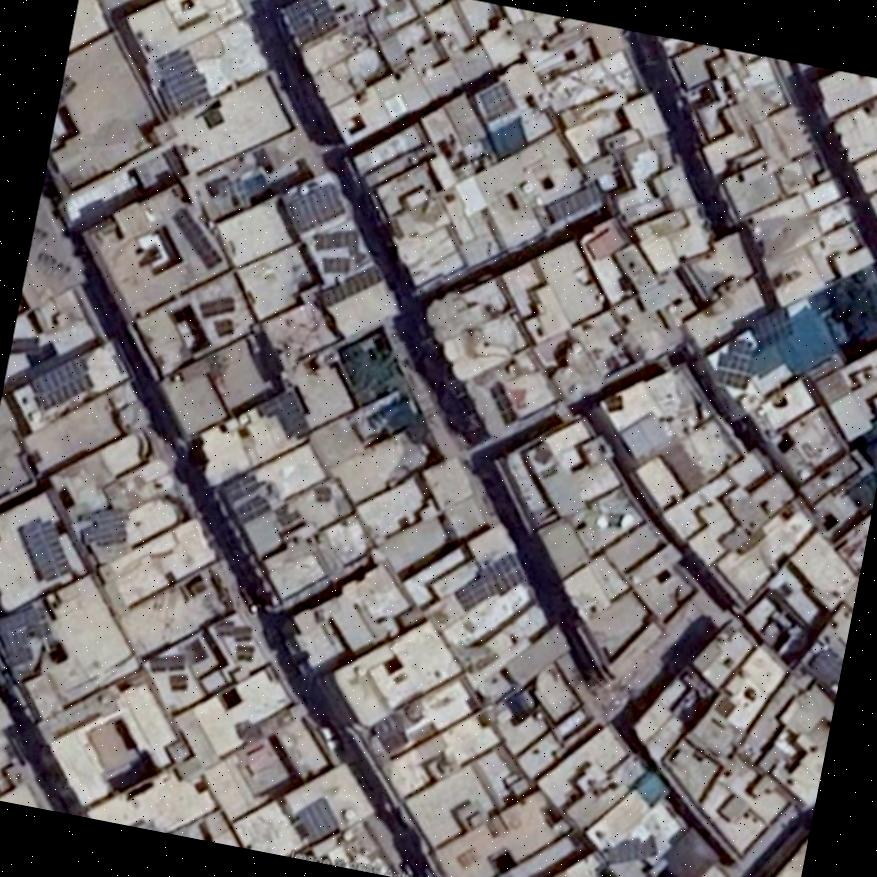Solarpanel: (30, 355, 93, 409), (0, 604, 55, 665), (158, 46, 209, 110), (171, 205, 221, 268), (22, 518, 71, 582), (284, 182, 343, 229), (316, 264, 382, 305), (475, 551, 526, 594), (261, 390, 304, 440), (284, 0, 337, 39), (549, 181, 601, 219), (719, 337, 755, 387), (79, 508, 125, 542), (487, 380, 516, 423), (483, 81, 513, 117), (455, 579, 489, 609), (234, 495, 267, 522), (223, 474, 257, 498), (316, 230, 356, 247), (201, 296, 232, 314), (151, 654, 184, 668), (324, 257, 349, 271), (235, 643, 254, 659), (214, 619, 233, 633), (216, 319, 233, 332), (234, 625, 250, 638), (170, 674, 185, 685)
